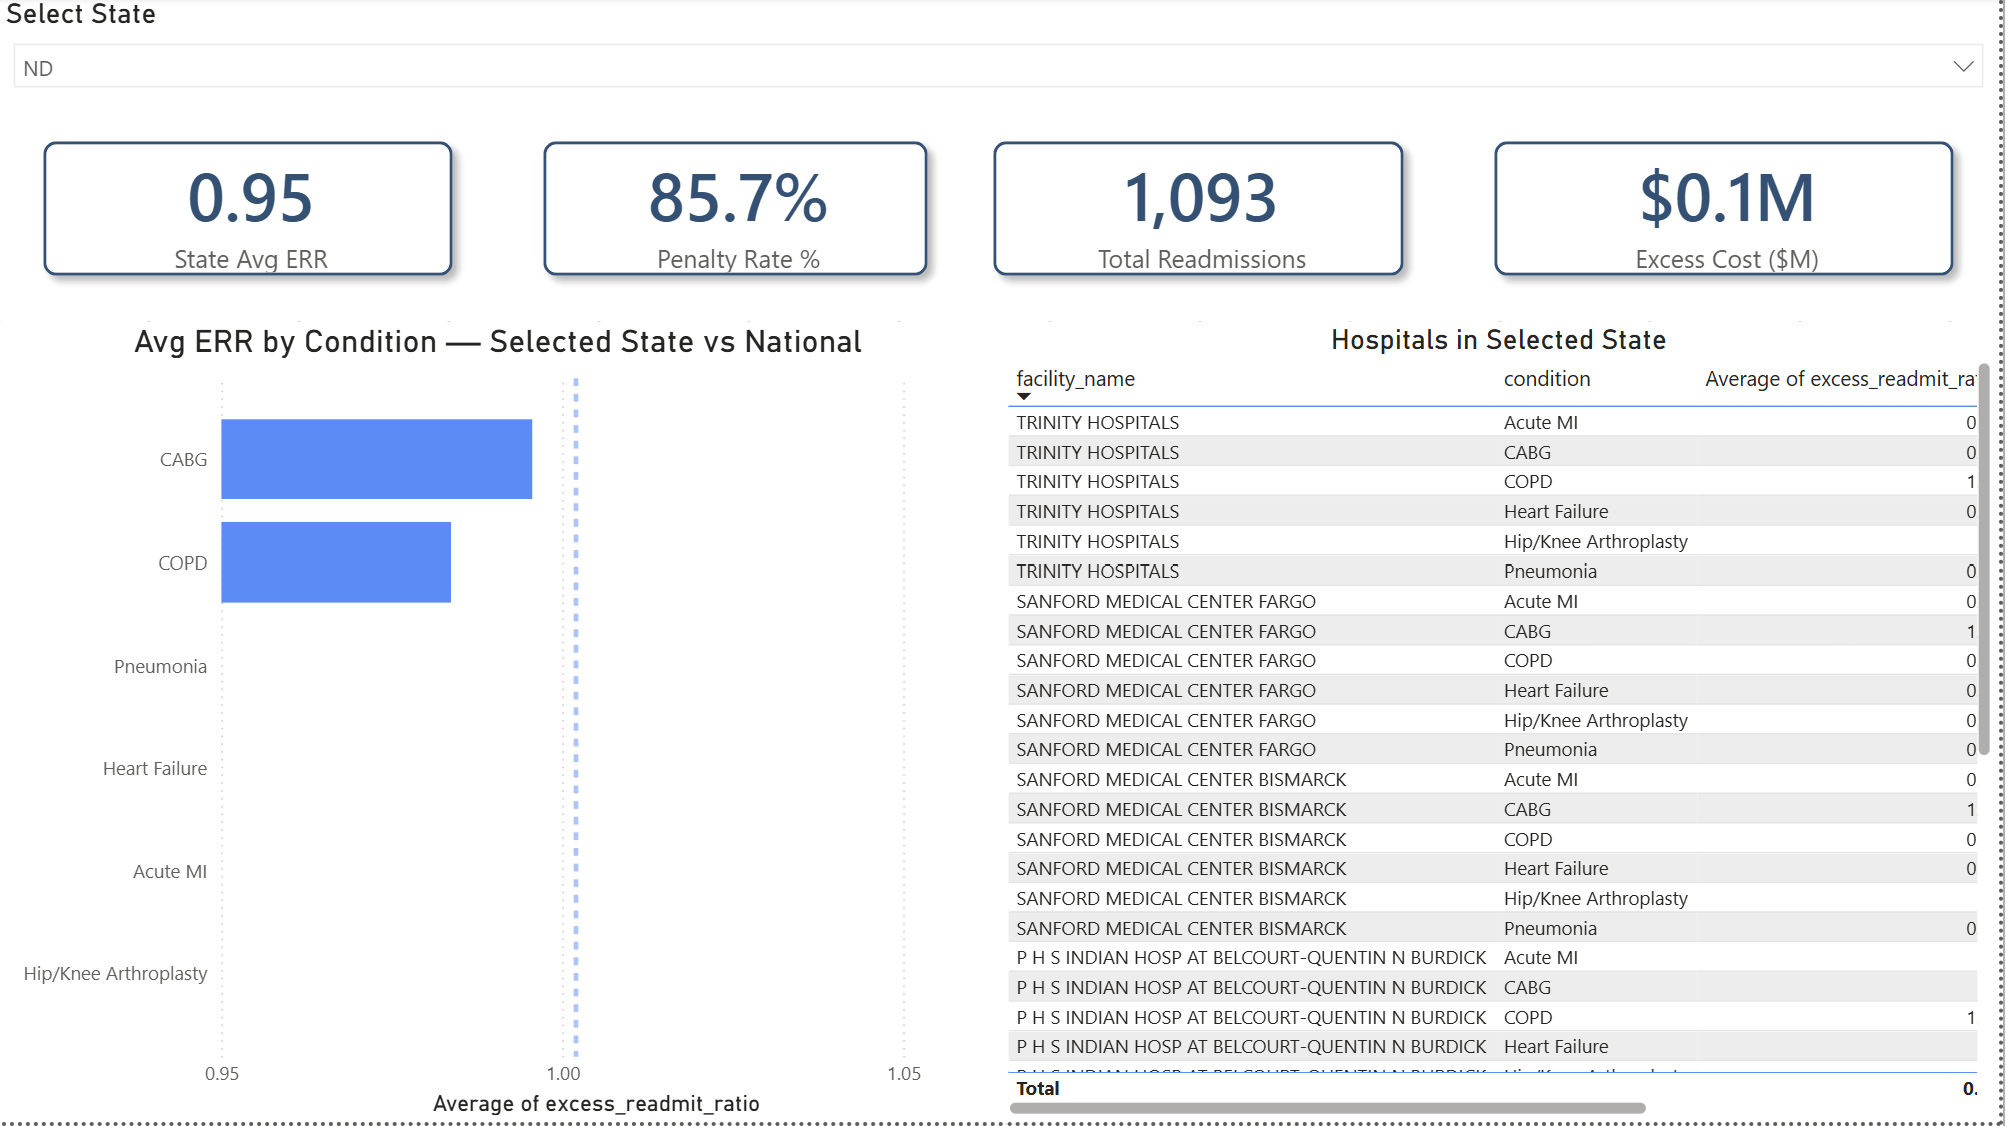

The page's visual inventory and layout, read from the dashboard file:
{"tool":"powerbi","page":{"name":"State Benchmarking","canvas":[1280,720],"ordinal":4},"visuals":[{"type":"slicer","title":"Select State","fields":{"Values":["vw_state_summary.state"]},"box":[0,0,1280,64],"z":0},{"type":"cardVisual","fields":{"Data":["Avg(vw_state_summary.state_avg_err)"]},"box":[0,64,320,144],"z":1000},{"type":"cardVisual","fields":{"Data":["vw_state_summary.SB - Penalty Rate"]},"box":[320,64,304,144],"z":2000},{"type":"cardVisual","fields":{"Data":["vw_state_summary.SB - Total Readmissions"]},"box":[608,64,320,144],"z":3000},{"type":"cardVisual","fields":{"Data":["vw_state_summary.SB - Excess Cost"]},"box":[928,64,352,144],"z":4000},{"type":"clusteredBarChart","title":"Avg ERR by Condition — Selected State vs National","fields":{"Category":["vw_hospital_detail.condition"],"Y":["Avg(vw_hospital_detail.excess_readmit_ratio)"]},"box":[0,208,640,512],"z":5000},{"type":"tableEx","title":"Hospitals in Selected State","fields":{"Values":["vw_hospital_detail.facility_name","vw_hospital_detail.condition","Avg(vw_hospital_detail.excess_readmit_ratio)","Sum(vw_hospital_detail.penalty_flag)","Sum(vw_hospital_detail.est_excess_cost_usd)"]},"box":[640,208,640,512],"z":6000}]}

Visuals, with their boxes in screenshot pixels (x1, y1, x2, y2), scaled from the page's 1280x720 canvas onto the 2006x1126 screenshot:
"Select State" slicer: [left=0, top=0, right=2005, bottom=100]
cardVisual - Avg(vw_state_summary.state_avg_err): [left=0, top=100, right=502, bottom=325]
cardVisual - vw_state_summary.SB - Penalty Rate: [left=502, top=100, right=978, bottom=325]
cardVisual - vw_state_summary.SB - Total Readmissions: [left=953, top=100, right=1454, bottom=325]
cardVisual - vw_state_summary.SB - Excess Cost: [left=1454, top=100, right=2005, bottom=325]
"Avg ERR by Condition — Selected State vs National" clusteredBarChart: [left=0, top=325, right=1003, bottom=1125]
"Hospitals in Selected State" tableEx: [left=1003, top=325, right=2005, bottom=1125]
